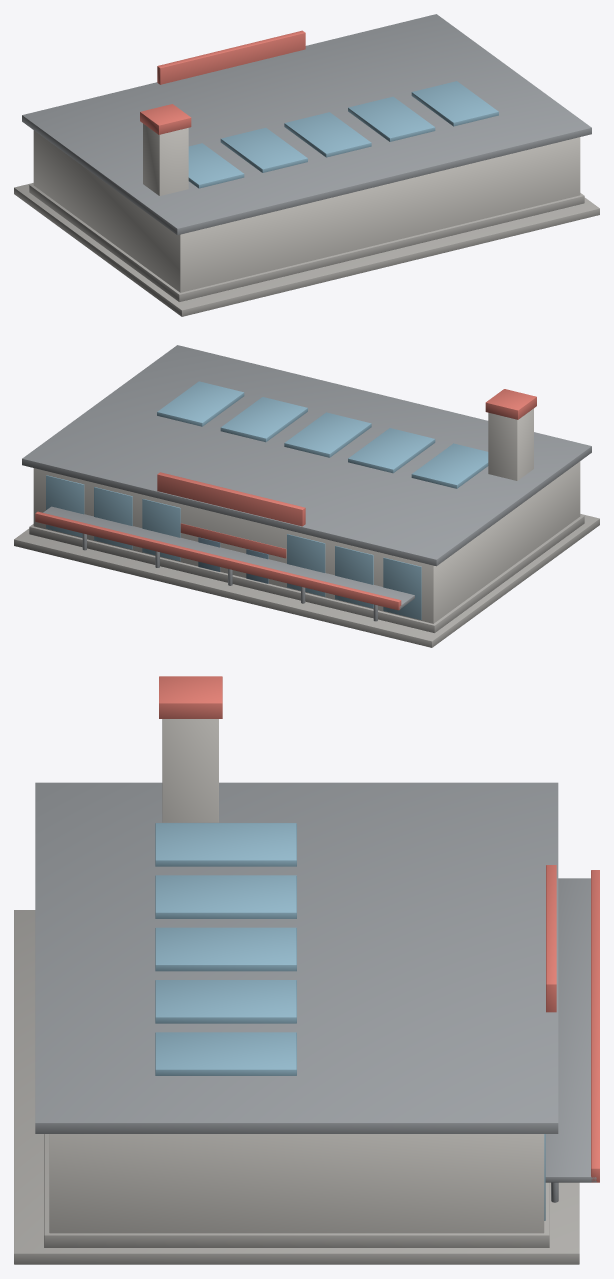
File: th9_mall.glb
3 renders of one model, top to bottom at view 1: azimuth 30°, elevation 25°; view 2: azimuth 150°, elevation 25°; view 3: azimuth 270°, elevation 25°, orthographic. The views are drawn at different scales.
Visible parts, largest first — view 1: Cube.002, Cube.001, Cube, Cube.003, Cube.015, Cube.016, Cube.019, Cube.018, Cube.020, Cube.021, Cube.022, Cube.017; view 2: Cube.002, Cube.001, Cube, Cube.003, Cube.014, Cube.013, Cube.015, Cube.016, Cube.019, Cube.020, Cube.021, Cube.018 (+9 smaller); view 3: Cube.002, Cube.001, Cube, Cube.013, Cube.003, Cube.020, Cube.018, Cube.019, Cube.021, Cube.022, Cube.016, Cube.014 (+2 smaller).
Part boxes in pixels (x1,y1,x2,y2): Cube.002: (22,14,591,235); Cube.001: (33,130,580,292); Cube: (14,183,599,316); Cube.003: (29,184,584,301); Cube.015: (157,30,305,84); Cube.016: (143,123,188,195); Cube.019: (348,96,435,141); Cube.018: (411,81,498,126); Cube.020: (284,112,371,157); Cube.021: (220,127,307,172); Cube.022: (188,143,244,188); Cube.017: (140,104,191,134); Cube.002: (22,345,591,566); Cube.001: (33,461,580,623); Cube: (14,514,599,647); Cube.003: (29,515,584,632); Cube.014: (35,511,401,610); Cube.013: (43,506,414,608); Cube.015: (157,472,305,526); Cube.016: (488,408,533,480); Cube.019: (220,397,307,442); Cube.020: (284,412,371,457); Cube.021: (348,428,435,473); Cube.018: (157,381,244,426); Cube.002: (35,782,558,1133); Cube.001: (49,1134,544,1233); Cube: (14,910,579,1264); Cube.013: (545,878,596,1182); Cube.003: (44,1134,549,1247); Cube.020: (155,927,296,971); Cube.018: (155,1032,296,1075); Cube.019: (155,980,296,1023); Cube.021: (155,875,296,918); Cube.022: (155,823,296,866); Cube.016: (162,719,218,822); Cube.014: (591,870,599,1182).
Bounding box in the file's own units: 46 × 16.3 × 33.15.
